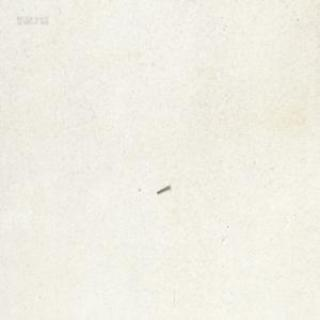Bolttrack_idkeyframe: (155, 182, 169, 193)
